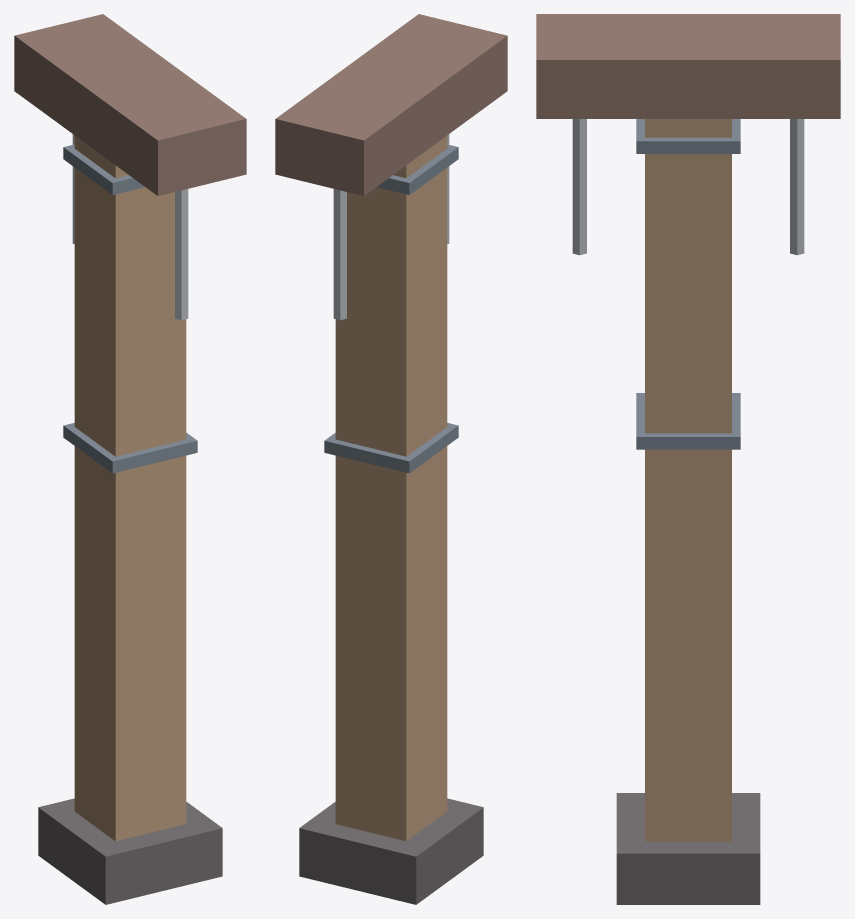
Rendered from poste_lateral.glb.
The picture shows the model from 3 angles, left to right: view 1: azimuth 30°, elevation 25°; view 2: azimuth 150°, elevation 25°; view 3: azimuth 270°, elevation 25°; orthographic projection. The views are drawn at different scales.
Visible parts, largest first — view 1: poste_lateral; view 2: poste_lateral; view 3: poste_lateral.
Part boxes in pixels (x1,y1,x2,y2): poste_lateral: [14, 14, 246, 904]; poste_lateral: [275, 14, 507, 904]; poste_lateral: [536, 14, 840, 904].
Bounding box in the file's own units: 0.66 × 4.25 × 1.4.
